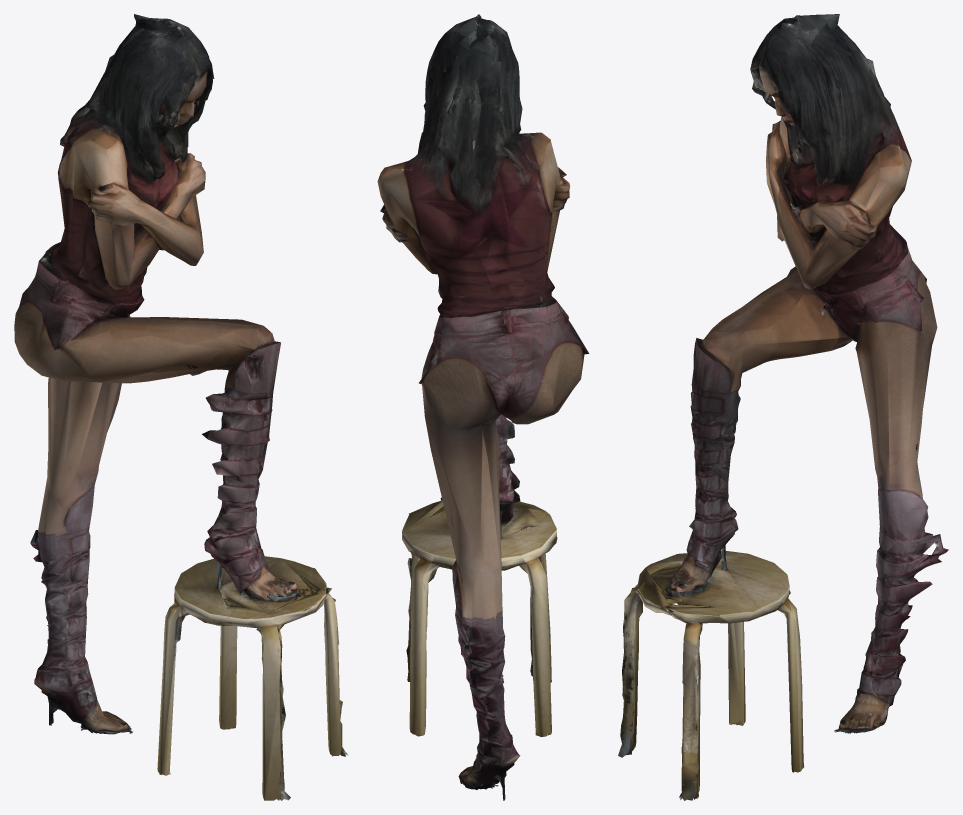
The model's file is mowalola.glb.
3 renders of one model, left to right at view 1: azimuth 30°, elevation 25°; view 2: azimuth 150°, elevation 25°; view 3: azimuth 270°, elevation 25°, orthographic.
Visible parts, largest first — view 1: Model_1_LOD0; view 2: Model_1_LOD0; view 3: Model_1_LOD0.
Boxes of the visible parts, box(x1,y1,x2,y2) form: Model_1_LOD0: box(14, 14, 348, 800); Model_1_LOD0: box(377, 14, 589, 800); Model_1_LOD0: box(618, 14, 948, 800).
Size of the model in its own units: 1.45 by 4.18 by 1.73.
Materials: 2 (2 with a texture image).
